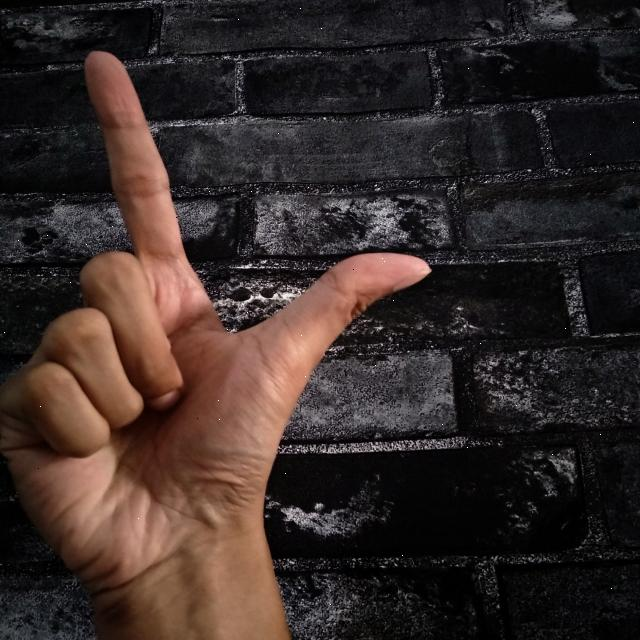L: (0, 45, 442, 640)
